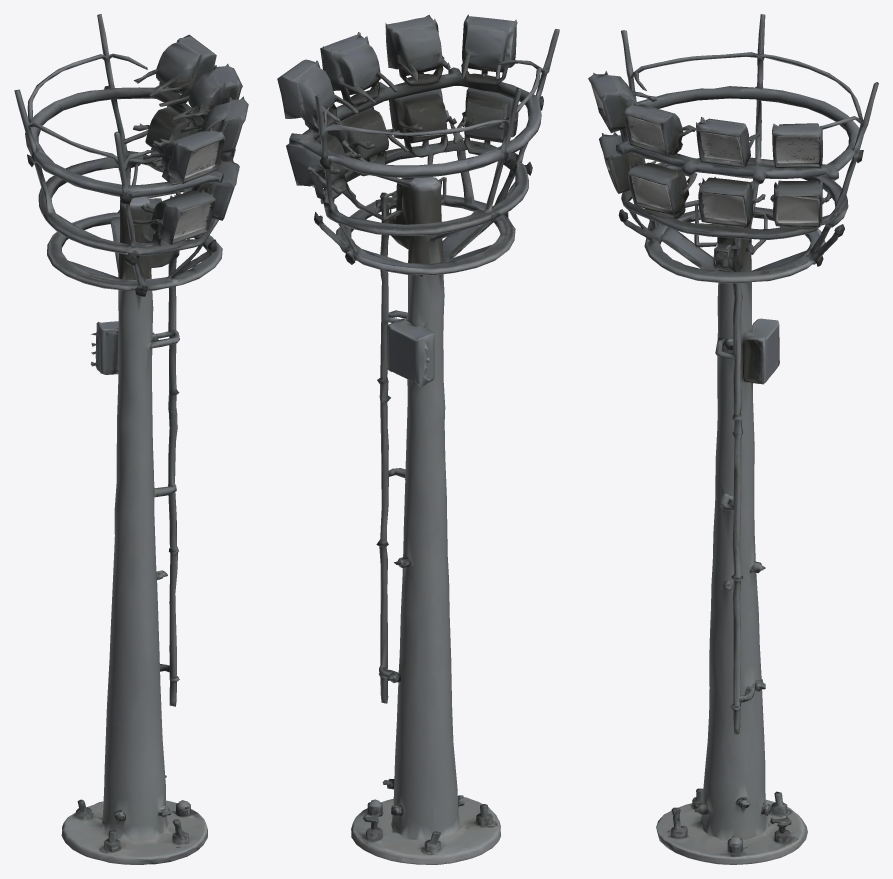
File: flood-mast.glb
3 views of the same model, side by side, from view 1: azimuth 30°, elevation 25°; view 2: azimuth 150°, elevation 25°; view 3: azimuth 270°, elevation 25° (orthographic). The views are drawn at different scales.
Parts seen in each view (by area): view 1: tripo_node_ca7831a9-1a58-475d-bd39-ae82e8123fa6; view 2: tripo_node_ca7831a9-1a58-475d-bd39-ae82e8123fa6; view 3: tripo_node_ca7831a9-1a58-475d-bd39-ae82e8123fa6.
Part boxes in pixels (box(x1,y1,x2,y2)): tripo_node_ca7831a9-1a58-475d-bd39-ae82e8123fa6: box(14, 14, 248, 864); tripo_node_ca7831a9-1a58-475d-bd39-ae82e8123fa6: box(277, 14, 559, 864); tripo_node_ca7831a9-1a58-475d-bd39-ae82e8123fa6: box(588, 14, 878, 864).
Bounding box in the file's own units: 0.2875 × 1 × 0.343.
Materials: 1 (1 with a texture image).
